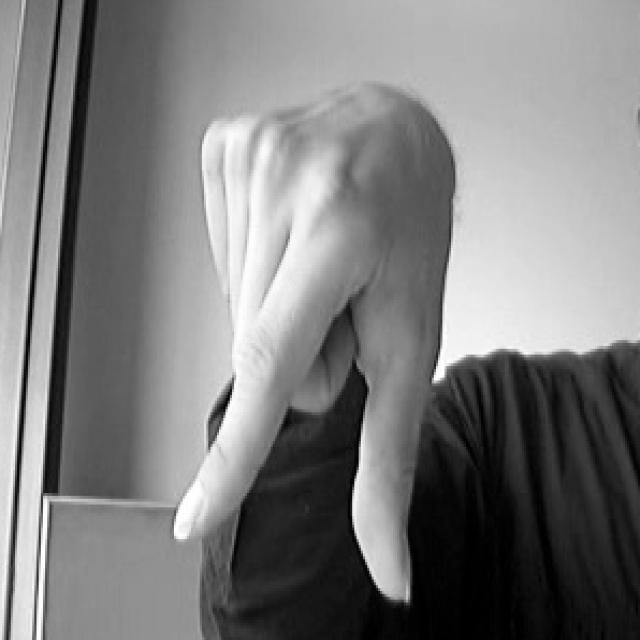Q: (165, 56, 463, 617)
